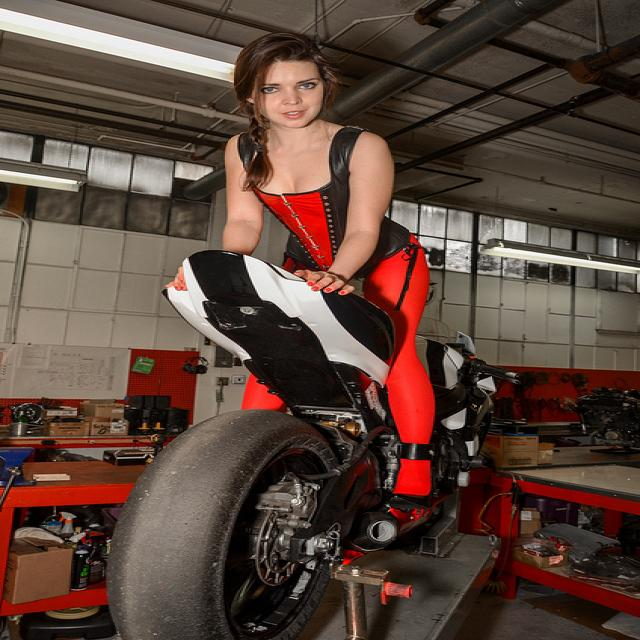motor: (106, 250, 521, 640)
